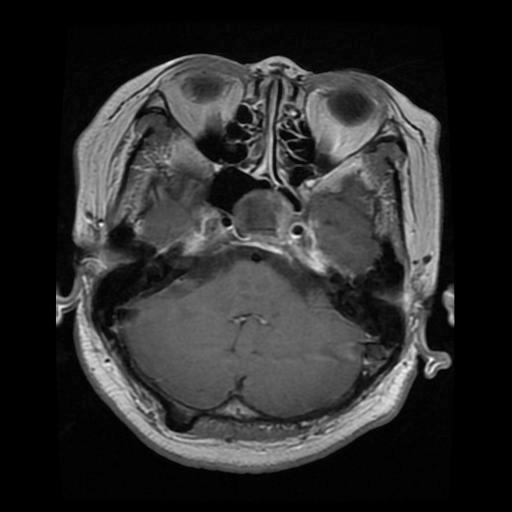Tumour-Pituitary: (232, 196, 295, 241)
